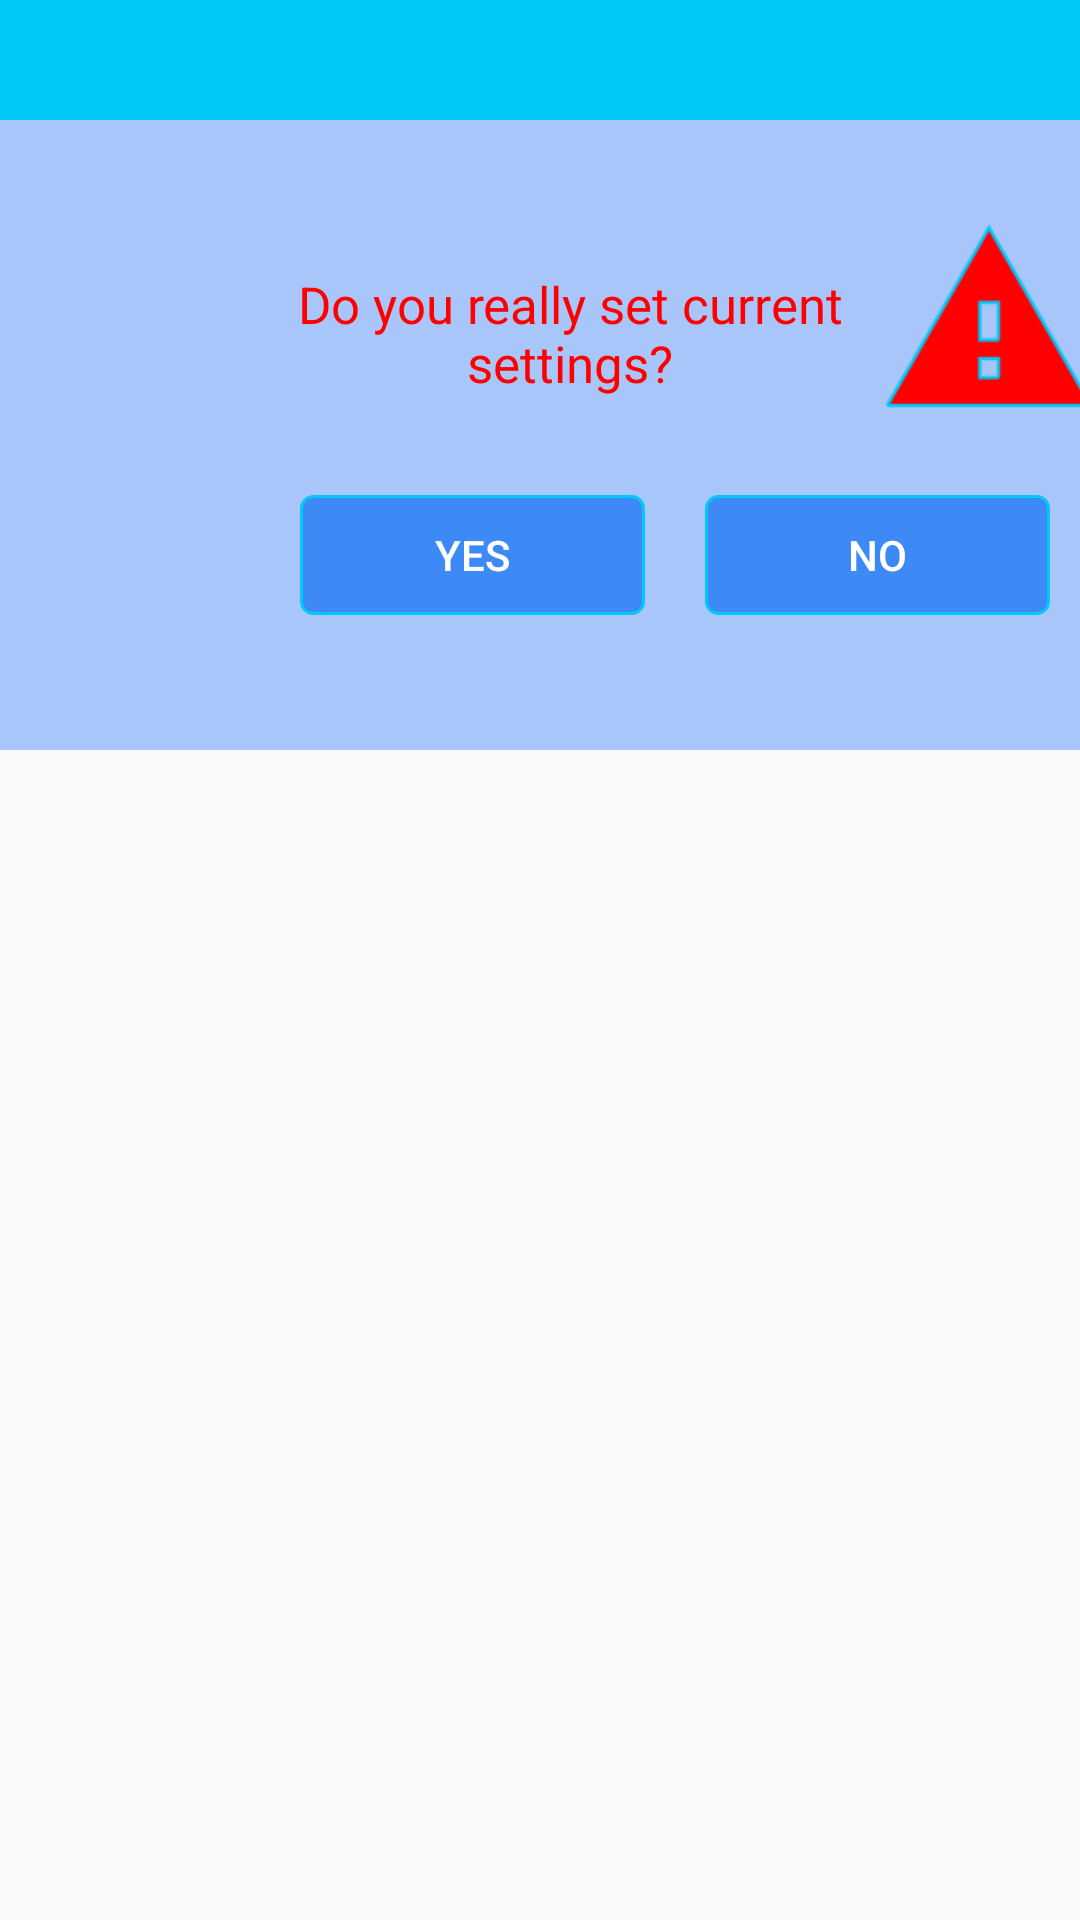

Screen size 1080px×1920px. Icon name, then its box in pixels as (x1, y1, x2, y2):
alert: (885, 224, 1080, 408)
